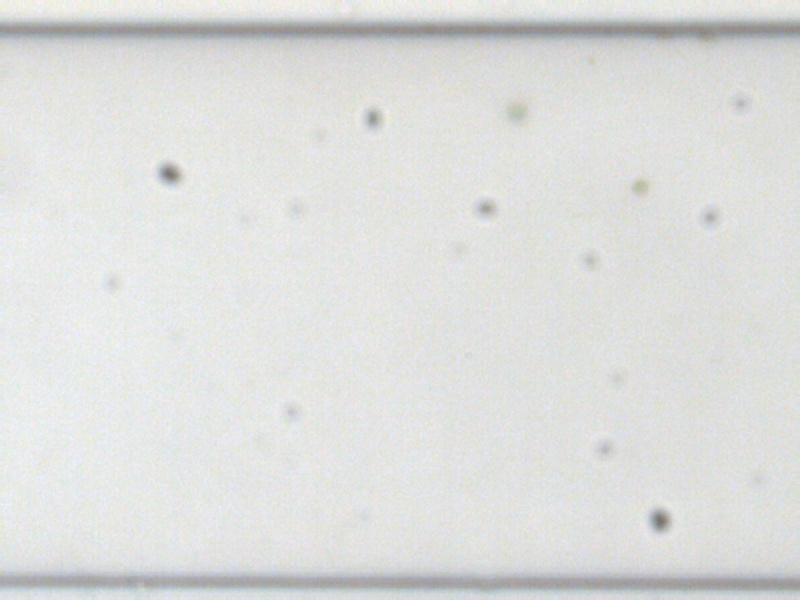Chlorella: (504, 97, 529, 123), (628, 176, 650, 196)
